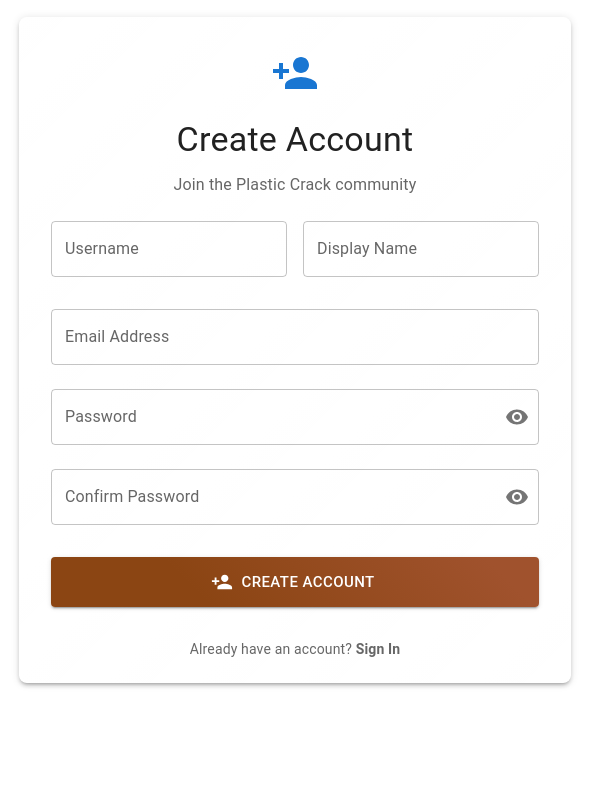
RegisterForm › validates username length
The image size is (591, 794).
Type "ab" into the field labelled "Username".
click(169, 249); type("ab")  # box [51,221,287,277]
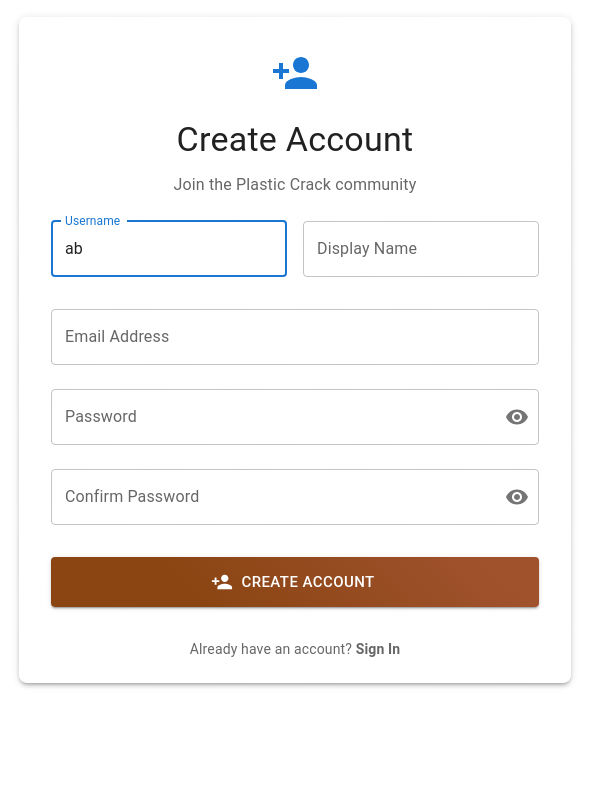
Click the button "Create Account".
click(295, 582)  # box [51,557,539,607]
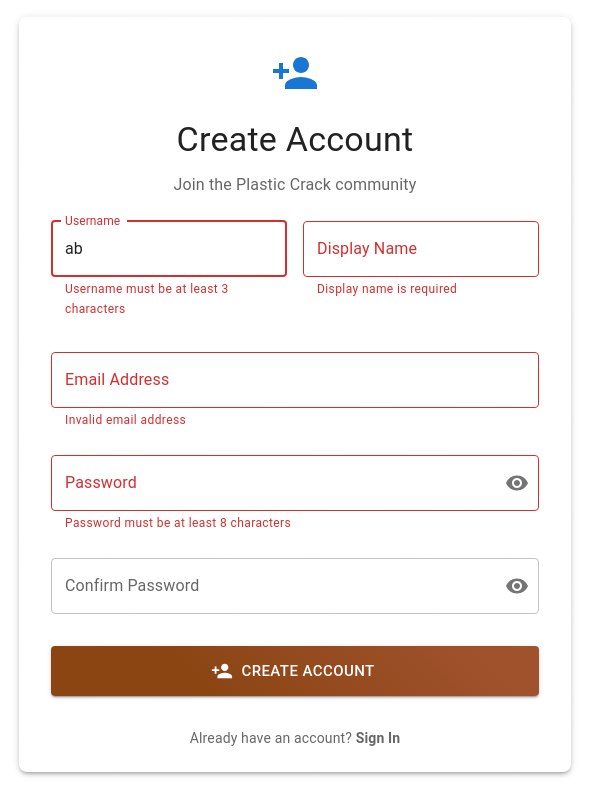
Result: the text "Username must be at least 3 characters" is shown at [65,282,229,316]
